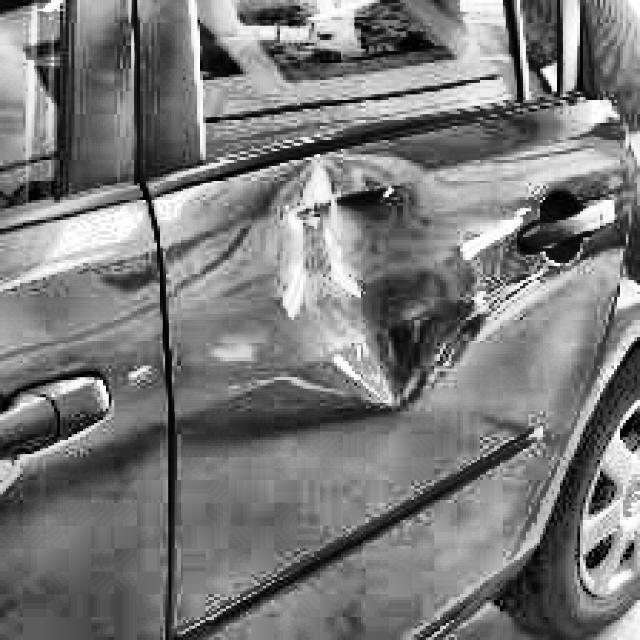door_dent: (266, 168, 490, 407)
